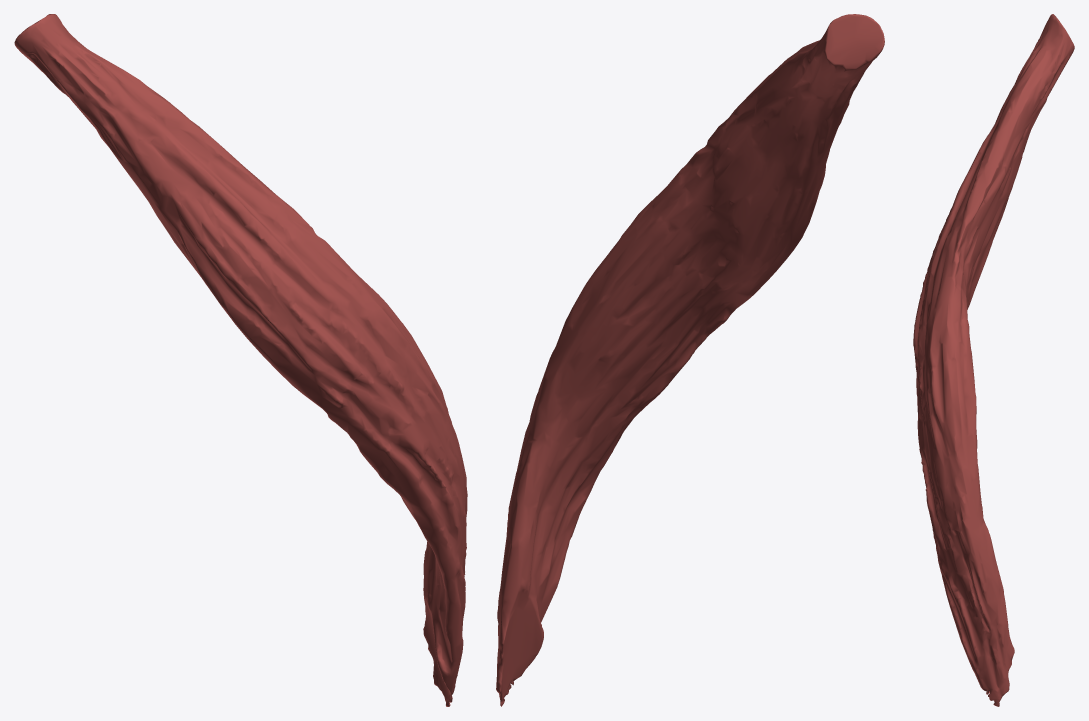
The model's file is FMA38563.glb.
3 renders of one model, left to right at view 1: azimuth 30°, elevation 25°; view 2: azimuth 150°, elevation 25°; view 3: azimuth 270°, elevation 25°, orthographic. The views are drawn at different scales.
Parts seen in each view (by area): view 1: FMA38563; view 2: FMA38563; view 3: FMA38563.
Part boxes in pixels (x1=…): FMA38563: x1=14, y1=14, x2=467, y2=706; FMA38563: x1=496, y1=14, x2=884, y2=706; FMA38563: x1=913, y1=14, x2=1074, y2=706.
Size of the model in its own units: 0.052 by 0.0941 by 0.0247.
